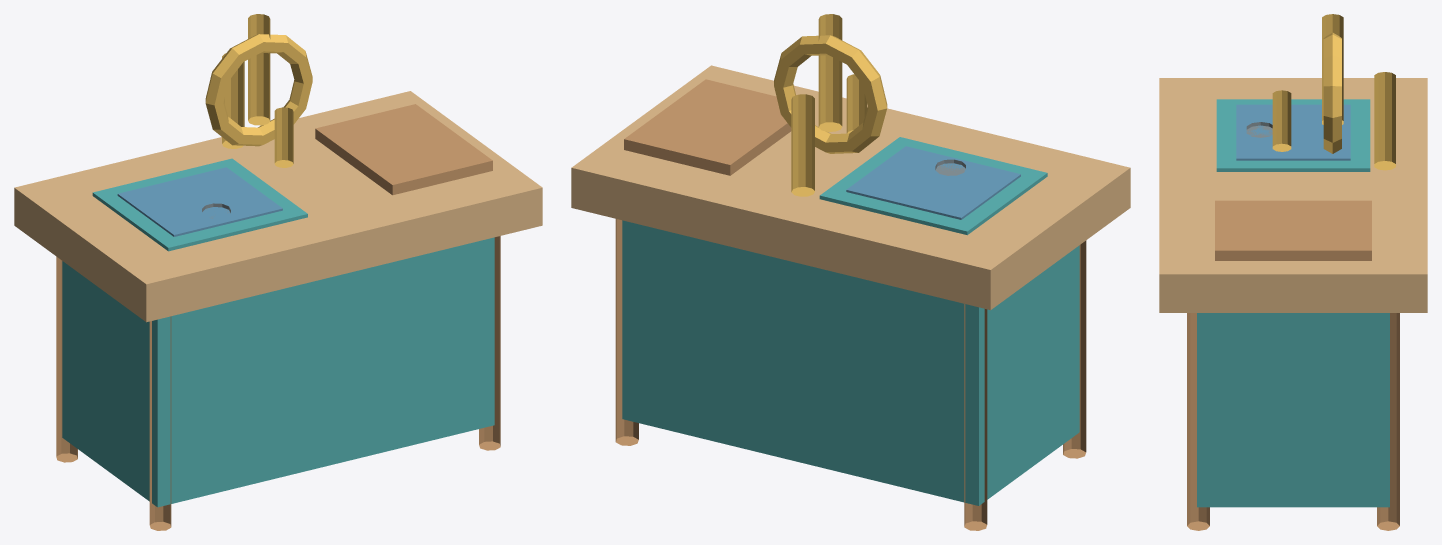
Rendered from sink_farmhouse.glb.
3 renders of one model, left to right at view 1: azimuth 30°, elevation 25°; view 2: azimuth 150°, elevation 25°; view 3: azimuth 270°, elevation 25°, orthographic. The views are drawn at different scales.
Visible parts, largest first — view 1: sink_farmhouse; view 2: sink_farmhouse; view 3: sink_farmhouse.
Part boxes in pixels (left/top/right/bottom): sink_farmhouse: left=14, top=14, right=542, bottom=530; sink_farmhouse: left=571, top=14, right=1130, bottom=530; sink_farmhouse: left=1159, top=14, right=1427, bottom=530.
Bounding box in the file's own units: 1.42 × 1.44 × 0.82.
